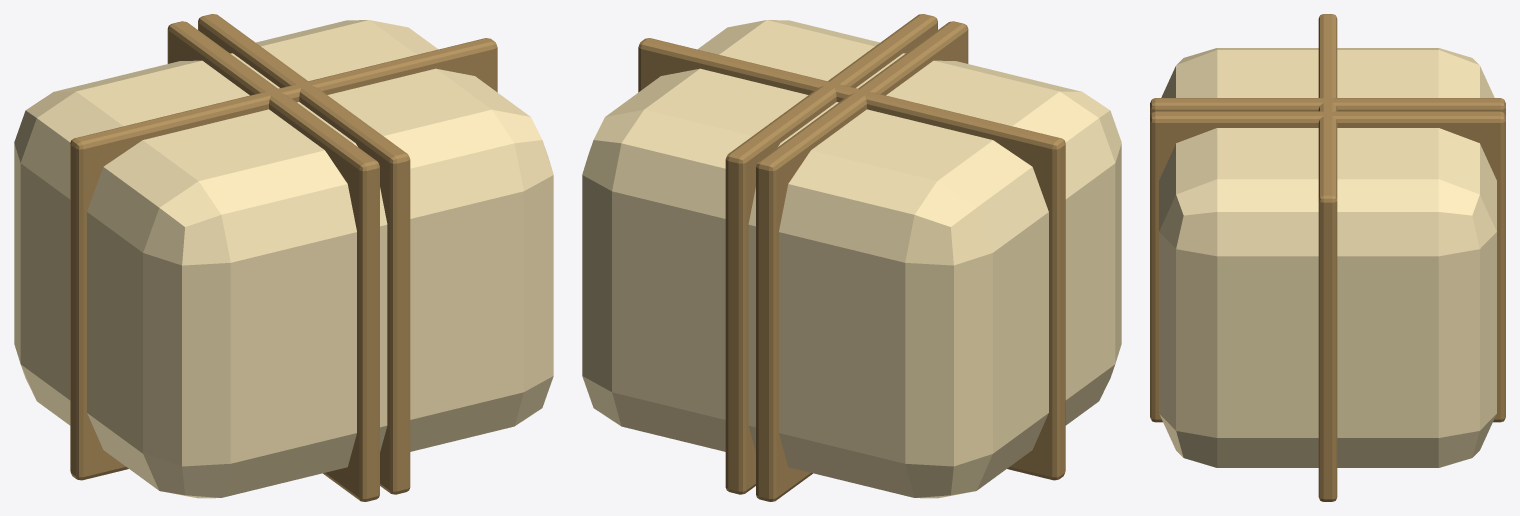
Rendered from kit_parcel.glb.
3 renders of one model, left to right at view 1: azimuth 30°, elevation 25°; view 2: azimuth 150°, elevation 25°; view 3: azimuth 270°, elevation 25°, orthographic. The views are drawn at different scales.
Parts seen in each view (by area): view 1: Linen parcel, Parcel cross tie, Parcel tie, Parcel tie.001; view 2: Linen parcel, Parcel cross tie, Parcel tie, Parcel tie.001; view 3: Linen parcel, Parcel tie.001, Parcel cross tie, Parcel tie.
Part boxes in pixels (x1,y1,x2,y2): Linen parcel: (14, 20, 553, 498); Parcel cross tie: (70, 38, 497, 480); Parcel tie: (167, 21, 379, 501); Parcel tie.001: (198, 14, 410, 494); Linen parcel: (582, 20, 1121, 498); Parcel cross tie: (638, 38, 1065, 480); Parcel tie: (756, 21, 968, 501); Parcel tie.001: (725, 14, 937, 494); Linen parcel: (1159, 48, 1496, 467); Parcel tie.001: (1150, 111, 1505, 422); Parcel cross tie: (1318, 14, 1337, 501); Parcel tie: (1150, 98, 1505, 115).
Bounding box in the file's own units: 0.417 × 0.32 × 0.337.
